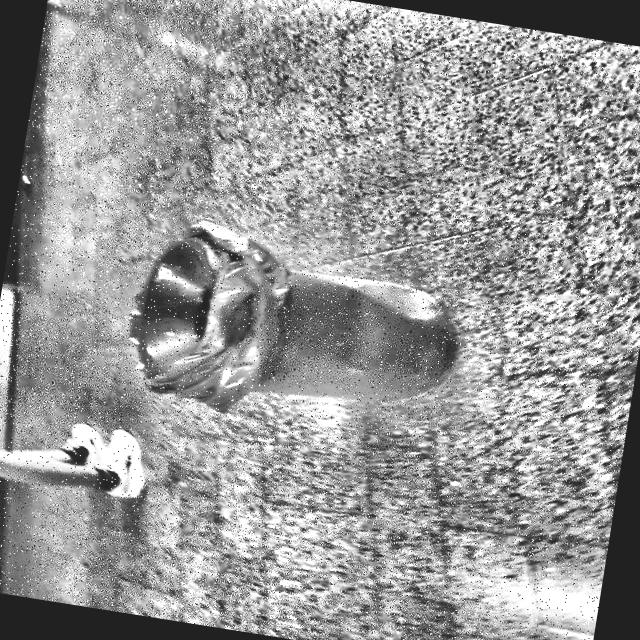Dustbin: (104, 202, 506, 480)
